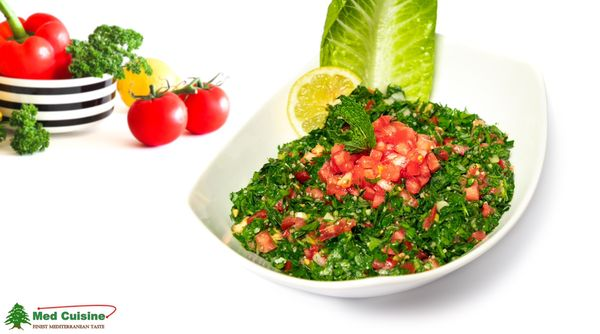curry: (66, 24, 149, 81), (0, 103, 51, 156)
sushi: (186, 77, 539, 298)
